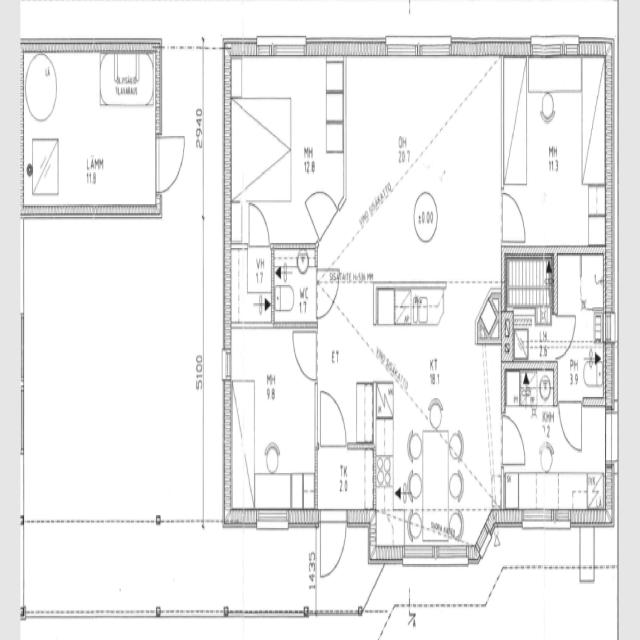door: (154, 128, 188, 195), (316, 384, 349, 453), (497, 182, 530, 247), (305, 185, 340, 240), (498, 408, 528, 468), (557, 394, 585, 456), (245, 196, 272, 254), (292, 324, 318, 383), (314, 271, 341, 320), (552, 310, 578, 360)
window: (385, 32, 454, 63), (411, 541, 470, 571), (254, 32, 306, 61), (520, 506, 569, 534), (529, 36, 579, 62), (254, 504, 292, 535), (474, 515, 495, 560), (219, 342, 231, 386)
zone: (376, 273, 502, 555), (344, 53, 502, 272), (228, 52, 346, 242), (499, 51, 610, 252), (23, 47, 158, 211), (227, 323, 316, 514), (502, 408, 612, 520), (556, 248, 610, 405), (504, 249, 554, 364), (227, 245, 274, 326), (272, 248, 318, 328), (502, 363, 557, 410), (316, 505, 348, 584)
